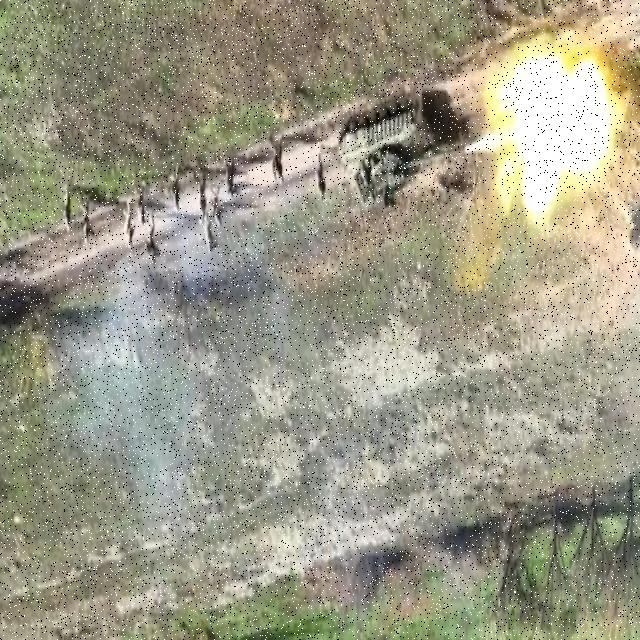MIL_MBT: (339, 90, 464, 208)
